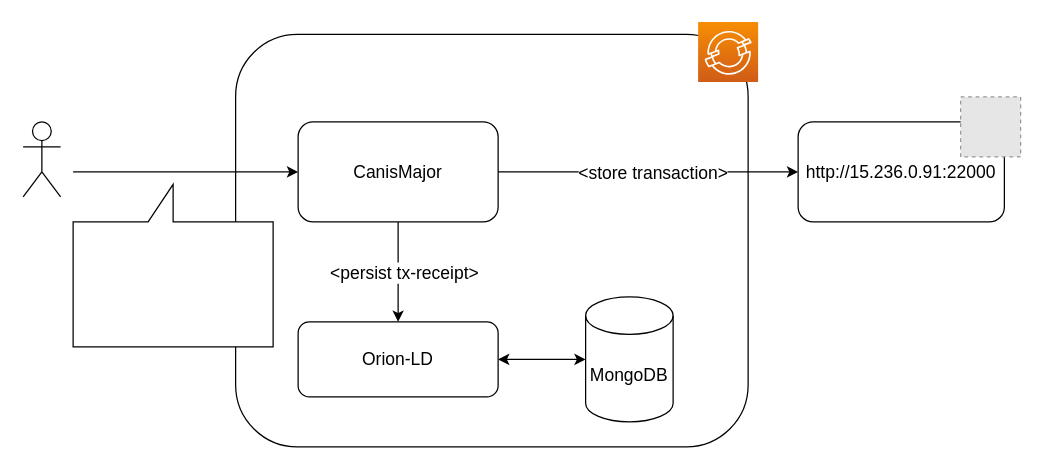
Some shapes in this 1043 by 469 pixel diagram are drawn without their labels. Grey dashed boxes stand in for pictures. Each missing label, with the centre of its shape:
Actor: [41,159]
URL: https://token-canis-major- token.apps.fiware-dev-aws. fiware.dev: [172,265]
